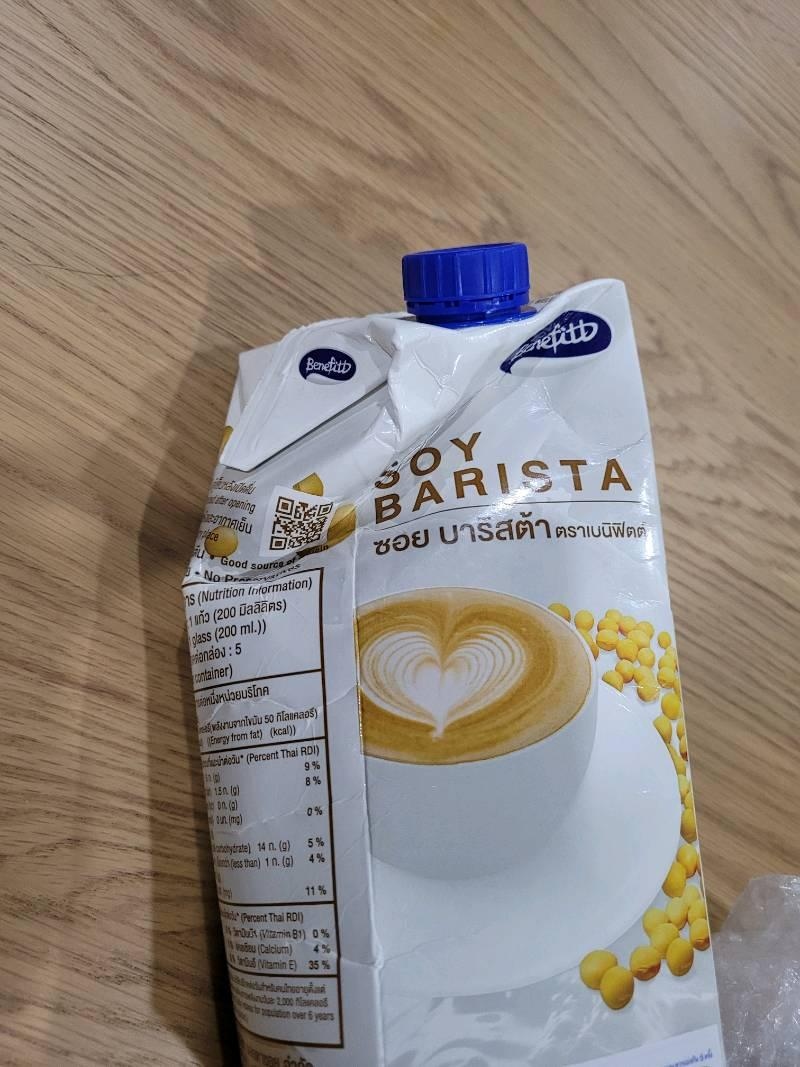cardboard: (183, 245, 721, 1066)
